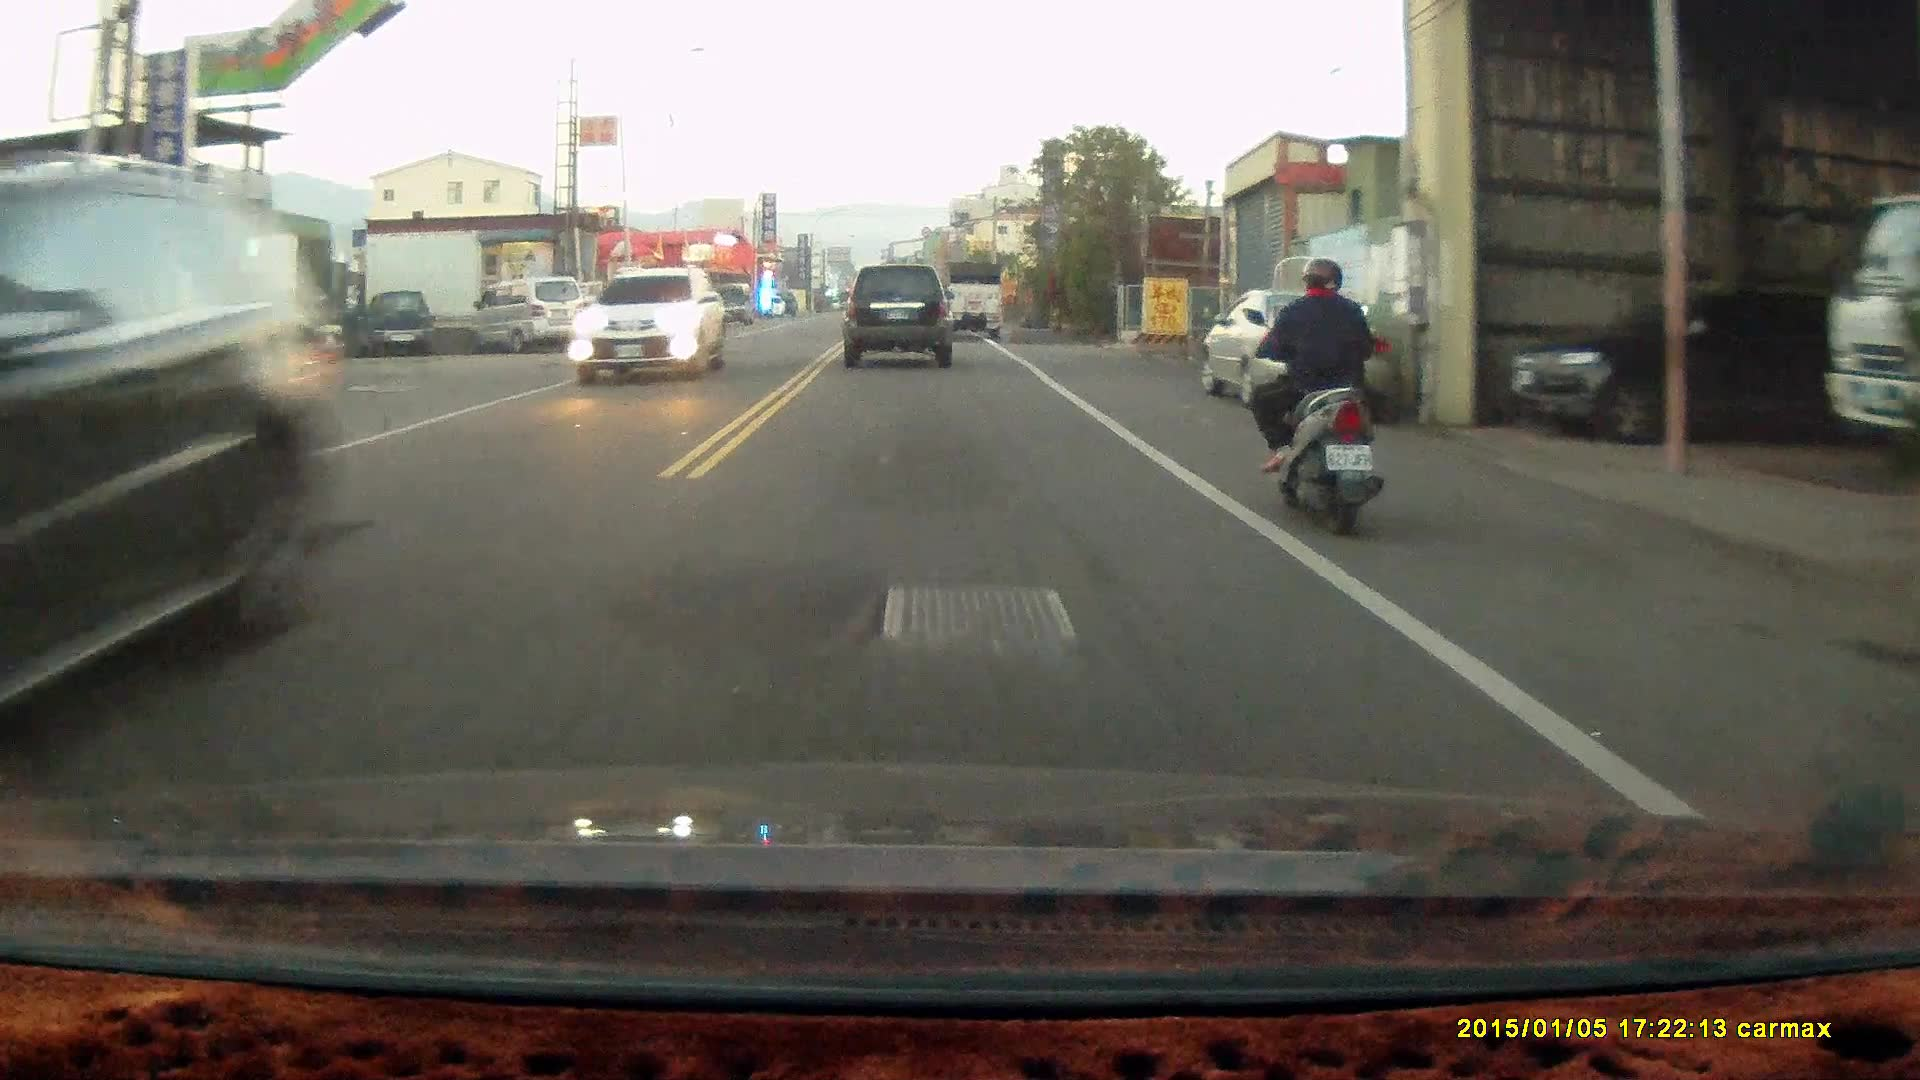rider: (1240, 256, 1384, 539)
vehicle: (1, 179, 339, 758), (1514, 293, 1849, 447), (1199, 282, 1405, 413), (568, 266, 730, 386), (844, 263, 956, 371), (475, 275, 585, 358), (937, 258, 1007, 341), (375, 290, 435, 359)
